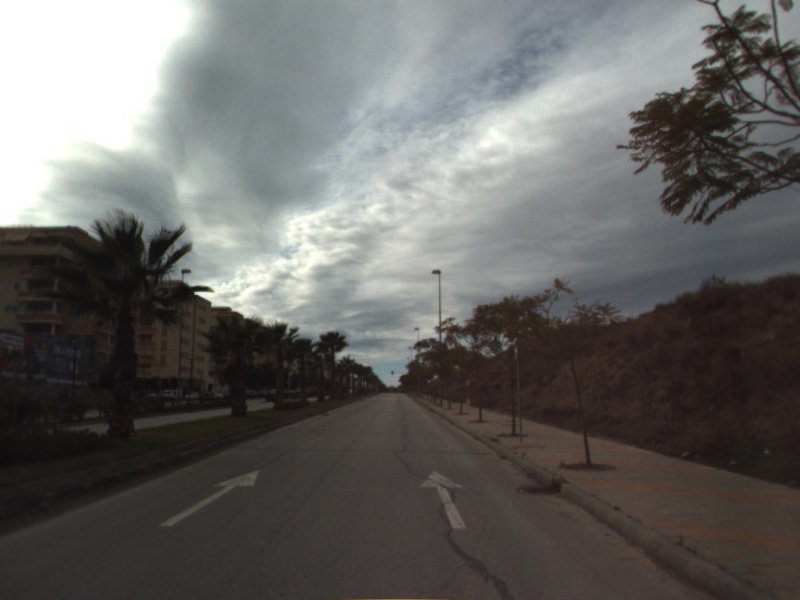STRAIGHT: (157, 467, 262, 529), (418, 468, 468, 531)
